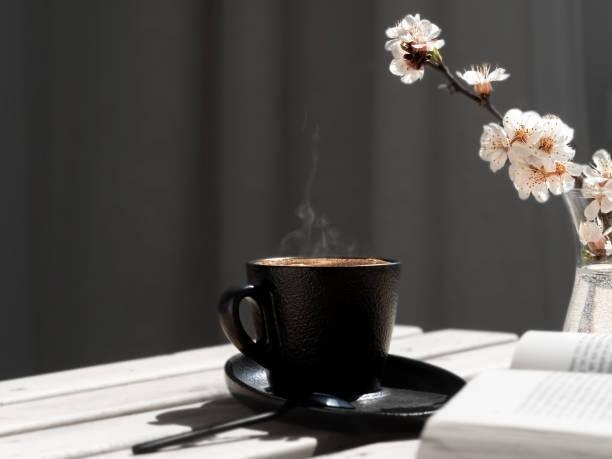cup-handle: (218, 253, 403, 403)
